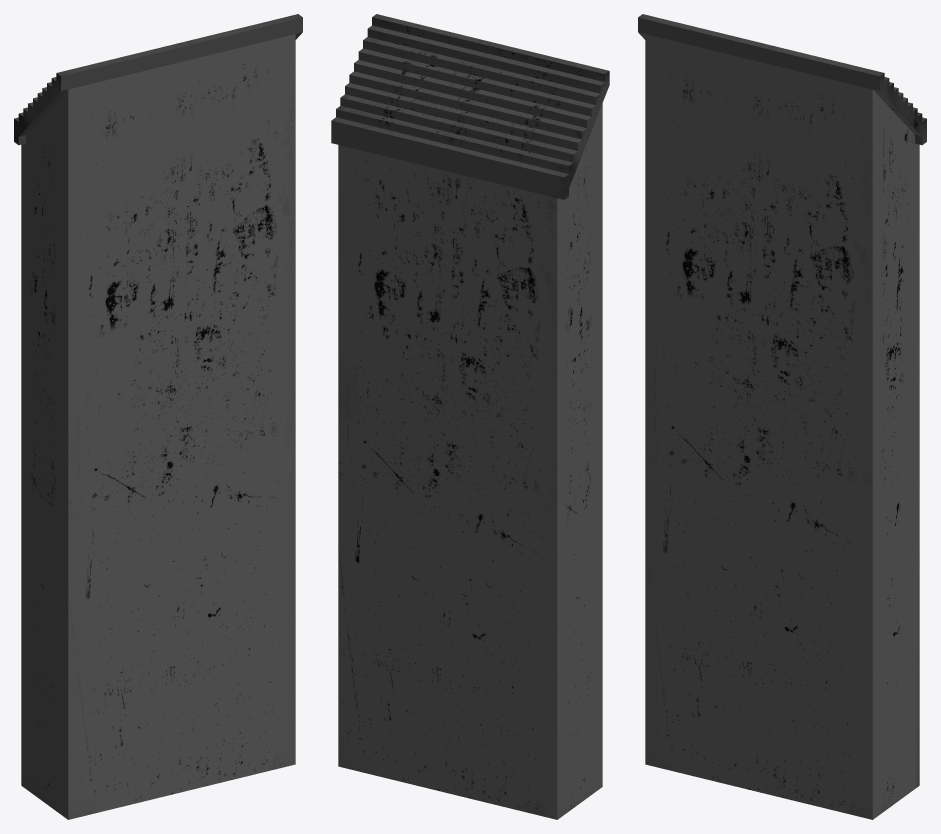
File: Base_Ground_1x3_Stair_V1.fbx
The picture shows the model from 3 angles, left to right: view 1: azimuth 30°, elevation 25°; view 2: azimuth 150°, elevation 25°; view 3: azimuth 330°, elevation 25°; orthographic projection. The views are drawn at different scales.
Visible parts, largest first — view 1: Base Ground 1x3 Stair V1; view 2: Base Ground 1x3 Stair V1; view 3: Base Ground 1x3 Stair V1.
Boxes of the visible parts, bbox=[...] form: Base Ground 1x3 Stair V1: bbox=[14, 14, 302, 819]; Base Ground 1x3 Stair V1: bbox=[331, 14, 609, 819]; Base Ground 1x3 Stair V1: bbox=[638, 14, 926, 819].
Bounding box in the file's own units: 298 × 878 × 100.
